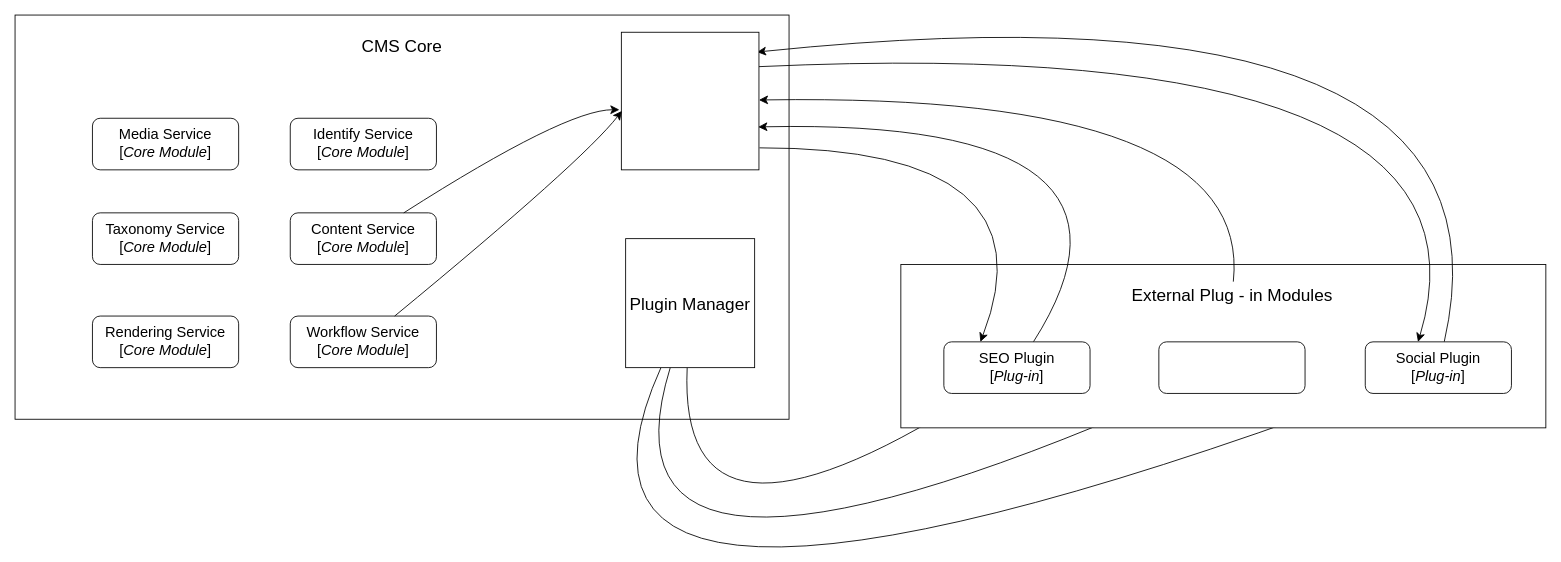
The diagram is 1561 pixels wide and 562 high, and some of its shapes have lost their labels. The centre of each missing label's shape, as x and y in pixels:
"E-Commerce Plugin [ Plug-in ]" belongs at (x=1231, y=367).
"Hook / Event-Bus" belongs at (x=689, y=100).
